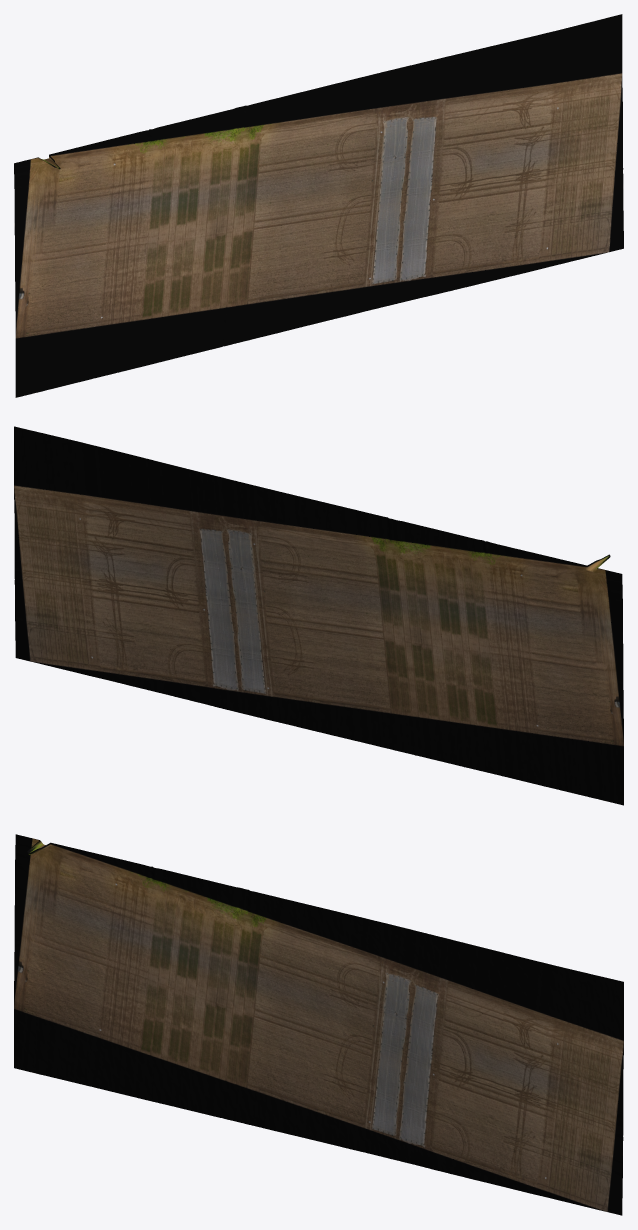
Rendered from field_terrain.obj.
3 renders of one model, top to bottom at view 1: azimuth 30°, elevation 25°; view 2: azimuth 150°, elevation 25°; view 3: azimuth 330°, elevation 25°, orthographic.
Parts seen in each view (by area): view 1: FieldTerrain; view 2: FieldTerrain; view 3: FieldTerrain.
Part boxes in pixels (x1,y1,x2,y2): FieldTerrain: (14, 14, 623, 397); FieldTerrain: (14, 426, 623, 805); FieldTerrain: (14, 834, 623, 1215).
Size of the model in its own units: 175 by 63.93 by 9.1.
1 material, 1 textured.
